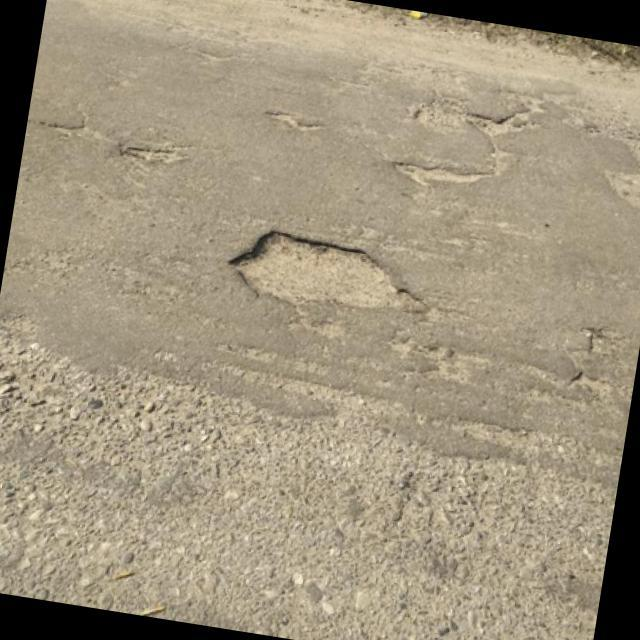Pothole: (229, 230, 427, 313), (394, 163, 493, 185)
